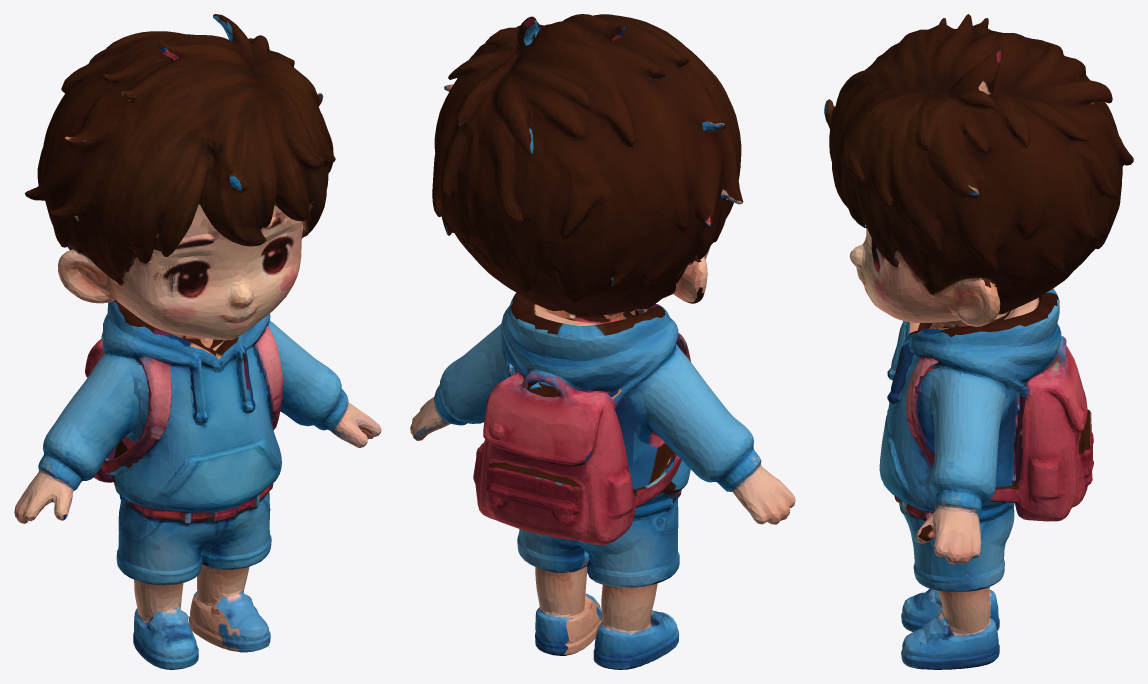
Rendered from boyT_t123_textured_00001_.glb.
3 views of the same model, side by side, from view 1: azimuth 30°, elevation 25°; view 2: azimuth 150°, elevation 25°; view 3: azimuth 270°, elevation 25° (orthographic). The views are drawn at different scales.
Parts seen in each view (by area): view 1: temp_mesh.ply; view 2: temp_mesh.ply; view 3: temp_mesh.ply.
Part boxes in pixels (bbox=[...]): temp_mesh.ply: bbox=[14, 14, 381, 669]; temp_mesh.ply: bbox=[410, 14, 795, 669]; temp_mesh.ply: bbox=[824, 14, 1133, 669].
Size of the model in its own units: 1.22 by 1.97 by 0.9011.
Materials: 1 (1 with a texture image).
